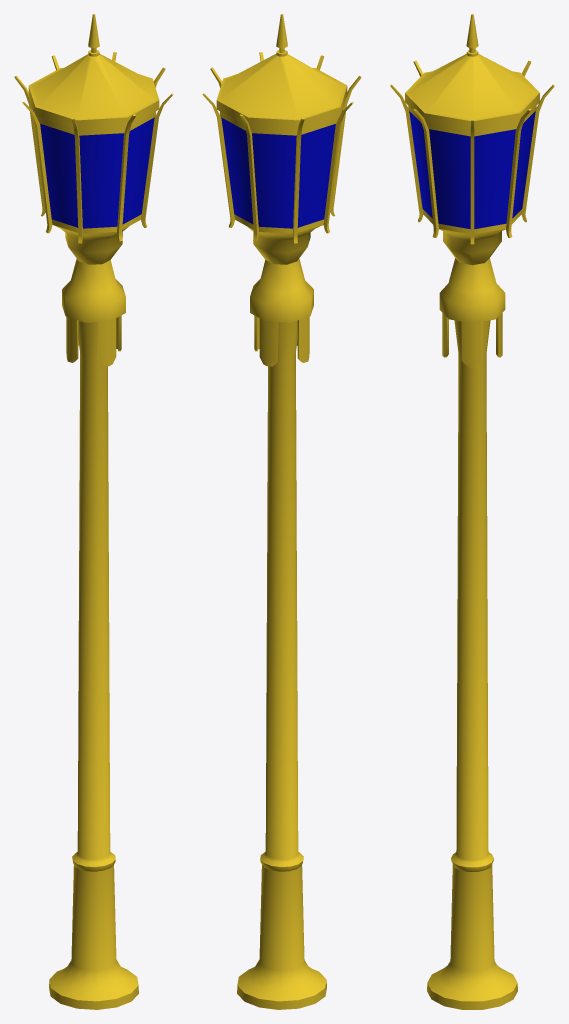
File: lantaarn.fbx
3 views of the same model, side by side, from view 1: azimuth 30°, elevation 25°; view 2: azimuth 150°, elevation 25°; view 3: azimuth 270°, elevation 25° (orthographic).
Parts seen in each view (by area): view 1: Glas; view 2: Glas; view 3: Glas.
Part boxes in pixels (x1,y1,x2,y2): Glas: [14, 14, 173, 1009]; Glas: [202, 14, 361, 1009]; Glas: [390, 14, 554, 1009].
Bounding box in the file's own units: 58.29 × 383 × 58.29.
